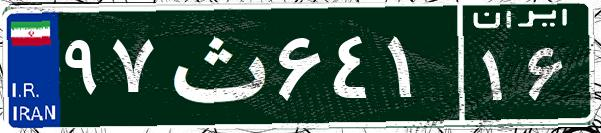1: (385, 28, 445, 110), (475, 38, 525, 113)
4: (330, 28, 385, 110)
6: (273, 28, 330, 110), (525, 38, 570, 115)
7: (110, 28, 158, 105)
9: (57, 26, 110, 107)
ث: (158, 15, 273, 115)
